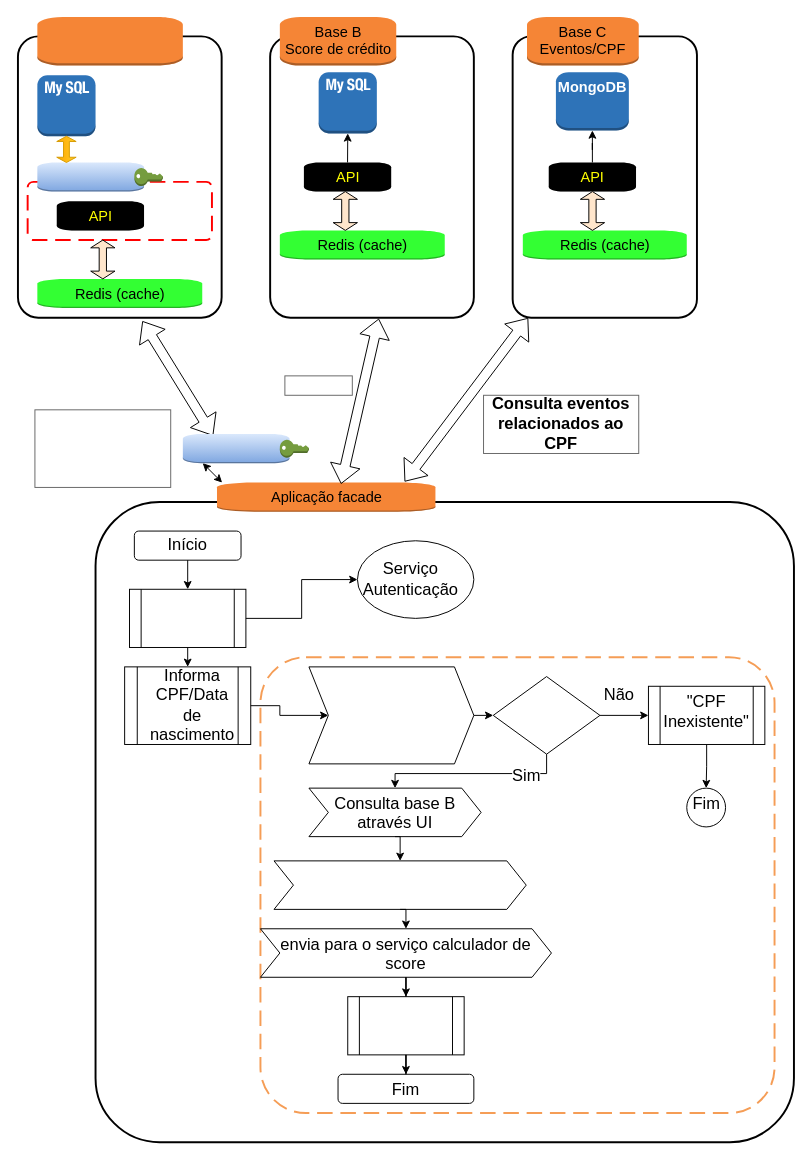
The diagram is 811 pixels wide and 1160 high, and some of its shapes have lost their labels. The shapes that lost their labels are listed below. From the top down, each one's centre as x and y in pixels, then its label:
the point at 109,40: Base A Dados de pessoas
the point at 90,177: crypt/decrypt
the point at 318,385: Consulta Score
the point at 102,448: Consulta UID através do CPF + data nascimento
the point at 236,448: segurança
the point at 187,617: Cliente faz login
the point at 391,715: Consulta Base A através de chave assimétrica
the point at 546,715: encontrou?
the point at 399,884: Consulta da Base C
the point at 405,1025: retorna consulta
